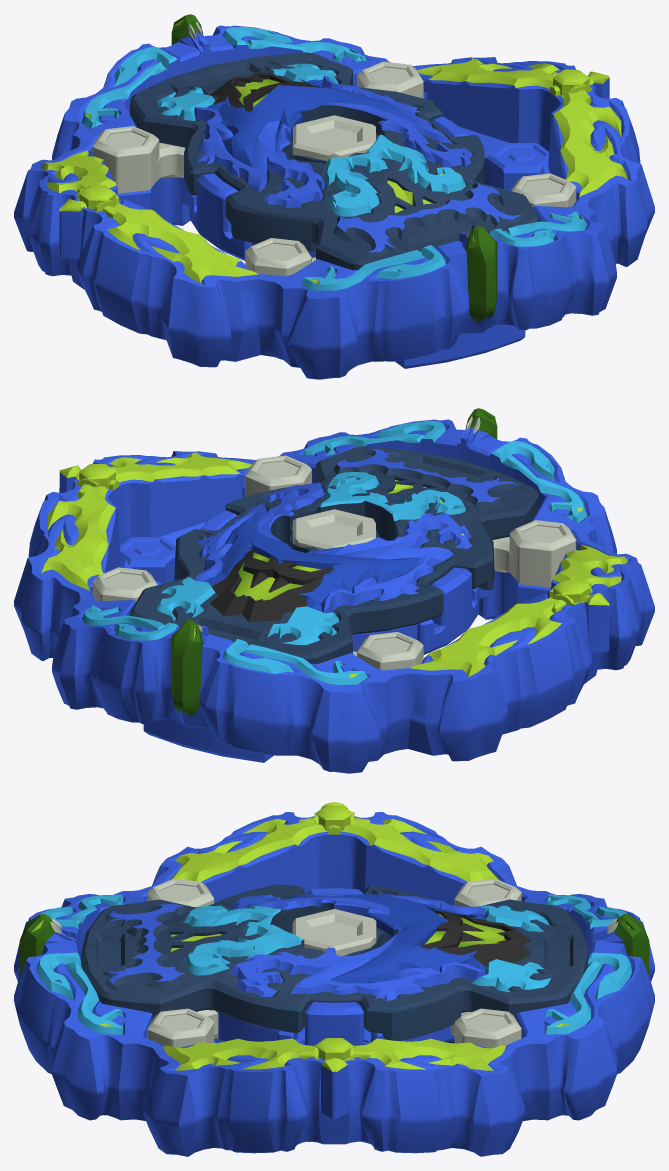
File: ViperHydraH5PremiumGeo.fbx
The picture shows the model from 3 angles, top to bottom: view 1: azimuth 30°, elevation 25°; view 2: azimuth 150°, elevation 25°; view 3: azimuth 270°, elevation 25°; orthographic projection.
Parts seen in each view (by area): view 1: Premium_ViperHydraH5_Layer; view 2: Premium_ViperHydraH5_Layer; view 3: Premium_ViperHydraH5_Layer.
Part boxes in pixels (box(x1,y1,x2,y2)): Premium_ViperHydraH5_Layer: box(14, 14, 654, 379); Premium_ViperHydraH5_Layer: box(14, 408, 654, 773); Premium_ViperHydraH5_Layer: box(14, 802, 654, 1156).
Bounding box in the file's own units: 0.5594 × 0.1358 × 0.5598.
Materials: 2 (2 with a texture image).
